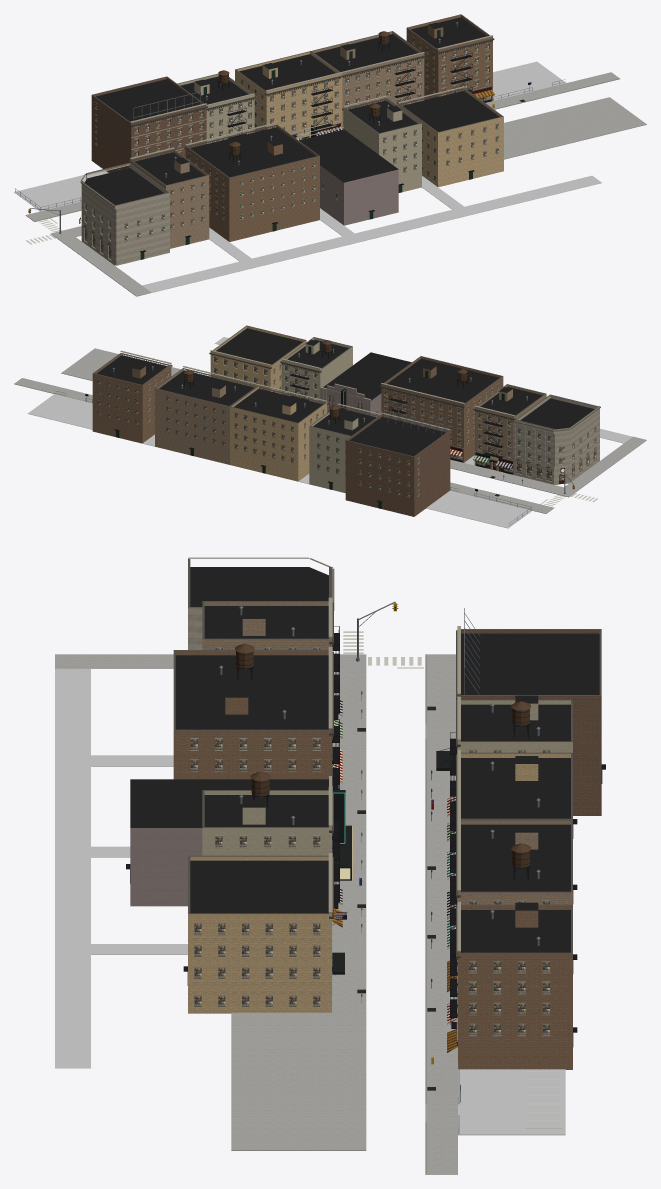
File: downtown_alt.gltf
3 views of the same model, one above another, from view 1: azimuth 30°, elevation 25°; view 2: azimuth 150°, elevation 25°; view 3: azimuth 270°, elevation 25° (orthographic). The views are drawn at different scales.
Parts seen in each view (by area): view 1: Paving, Alder, Hotel, Bank, Police, Aurora, Brighton, RadioBlock, Harbor, Crown, Garnet, Linden (+15 smaller); view 2: Paving, Hotel, Brighton, Alder, RadioBlock, Bank, Harbor, Police, Garnet, Linden, Aurora, Crown (+14 smaller); view 3: Paving, Police, Alder, Harbor, Hotel, Aurora, RadioBlock, Crown, Brighton, Bank, Garnet, Linden (+10 smaller).
Part boxes in pixels (<box>): Paving: <box>14,61,646,296</box>; Alder: <box>184,122,319,241</box>; Hotel: <box>91,76,207,172</box>; Bank: <box>80,162,169,265</box>; Police: <box>397,86,503,187</box>; Aurora: <box>295,123,398,225</box>; Brighton: <box>235,51,343,140</box>; RadioBlock: <box>311,31,425,129</box>; Harbor: <box>406,14,494,102</box>; Crown: <box>342,95,421,192</box>; Garnet: <box>129,147,209,248</box>; Linden: <box>177,73,255,143</box>; Paving: <box>14,337,646,528</box>; Hotel: <box>345,412,451,516</box>; Brighton: <box>230,384,328,481</box>; Alder: <box>380,356,503,462</box>; RadioBlock: <box>155,366,259,464</box>; Bank: <box>512,394,600,484</box>; Harbor: <box>92,350,172,443</box>; Police: <box>209,325,306,393</box>; Garnet: <box>473,384,546,474</box>; Linden: <box>309,403,381,492</box>; Aurora: <box>320,352,411,417</box>; Crown: <box>280,337,352,403</box>; Paving: <box>55,631,565,1174</box>; Police: <box>183,853,344,1013</box>; Alder: <box>173,647,342,788</box>; Harbor: <box>447,901,577,1069</box>; Hotel: <box>436,626,605,815</box>; Aurora: <box>126,776,351,906</box>; RadioBlock: <box>447,817,577,991</box>; Crown: <box>202,786,342,927</box>; Brighton: <box>447,749,577,918</box>; Bank: <box>188,557,334,649</box>; Garnet: <box>202,597,342,738</box>; Linden: <box>447,696,577,841</box>.
Bounding box in the file's own units: 178 × 22.3 × 76.6.
